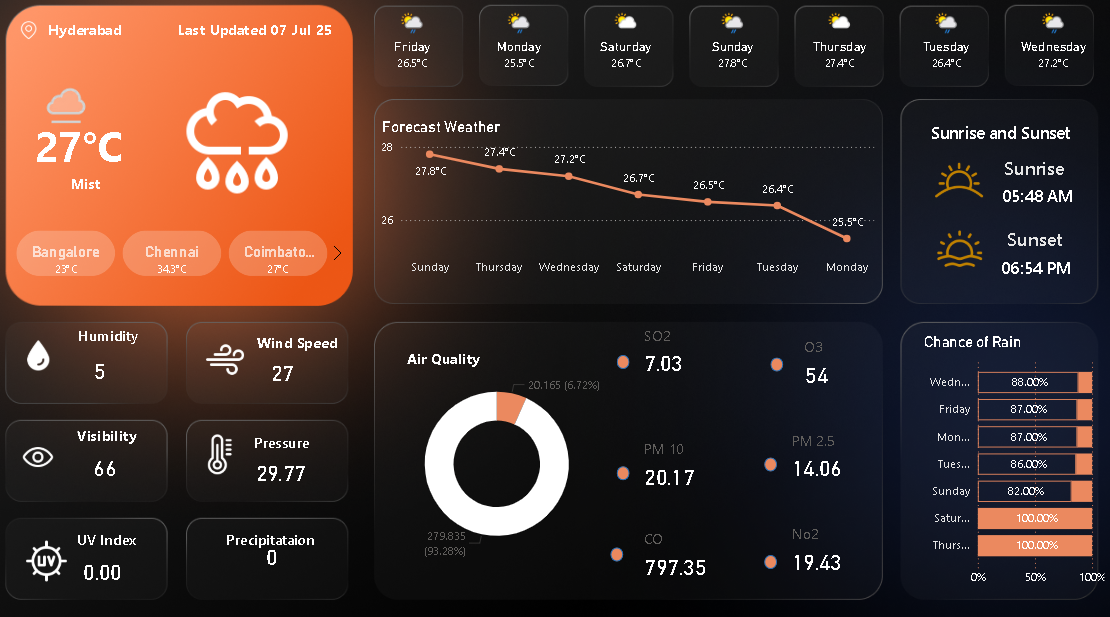

What the dashboard file says about the page in this screenshot:
{"tool":"powerbi","page":{"name":"Page 1","canvas":[1280,720],"ordinal":0},"visuals":[{"type":"advancedSlicerVisual","fields":{"Values":["Locations.location.name"]},"box":[12.9,271.4,401.4,61.4],"z":0},{"type":"shape","box":[21.4,149,172.9,63.1],"z":1000},{"type":"shape","box":[39.2,205.6,152.3,32.9],"z":2000},{"type":"shape","box":[37,32.9,156.4,34.3],"z":3000},{"type":"shape","box":[214.3,32.4,182.5,32.9],"z":4000},{"type":"image","box":[37,35.7,29.6,30.9],"z":5000},{"type":"cardVisual","fields":{"Data":["Min(Current.current.condition.icon)"]},"box":[39.1,82.5,104.2,98.4],"z":6000},{"type":"shape","box":[47.1,488.6,182.9,34.3],"z":7000},{"type":"cardVisual","fields":{"Data":["Sum(Current.current.humidity)"]},"box":[107.1,488.6,95.7,101.4],"z":8000},{"type":"cardVisual","fields":{"Data":["Sum(Current.current.wind_kph)"]},"box":[305.7,381.4,94.3,101.4],"z":9000},{"type":"cardVisual","fields":{"Data":["Sum(Current.current.precip_in)"]},"box":[300.9,588.8,95.5,101.3],"z":10000},{"type":"cardVisual","fields":{"Data":["Sum(Current.current.pressure_in)"]},"box":[288.6,494.3,94.3,101.4],"z":11000},{"type":"cardVisual","fields":{"Data":["Sum(Current.current.uv)"]},"box":[95.7,605.7,95.7,101.4],"z":12000},{"type":"cardVisual","fields":{"Data":["Sum(Current.current.vis_km)"]},"box":[107.1,378.6,95.7,101.4],"z":13000},{"type":"advancedSlicerVisual","fields":{"Values":["Forecast_Day.Day_Name"]},"box":[420.7,20.7,843.8,92.4],"z":14000},{"type":"lineChart","title":"Forecast Weather","fields":{"Category":["Forecast_Day.Day_Name"],"Y":["Sum(Forecast_Day.forecast.forecastday.day.avgtemp_c)"]},"box":[443.6,148.8,562.9,186.7],"z":15000},{"type":"shape","box":[1116,185.8,129.1,38.6],"z":16000},{"type":"shape","box":[1116,212.3,136.3,47.1],"z":17000},{"type":"shape","box":[1095.4,253.4,172.5,62.7],"z":18000},{"type":"shape","box":[1096.7,284.7,172.5,62.7],"z":19000},{"type":"hundredPercentStackedBarChart","title":"Chance of Rain","fields":{"Y":["Sum(Forecast_Day.forecast.forecastday.day.daily_chance_of_rain)","Current.Left_Value_rain"],"Category":["Forecast_Day.Day_Name"]},"box":[1051.5,390.3,213.4,293.4],"z":20000},{"type":"shape","box":[48.3,605.6,182.2,33.8],"z":21000},{"type":"shape","box":[48.6,375.7,182.9,32.9],"z":22000},{"type":"shape","box":[231.6,605.6,182.2,33.8],"z":23000},{"type":"shape","box":[244.3,495.7,182.9,34.3],"z":24000},{"type":"shape","box":[261.4,382.9,182.9,32.9],"z":25000},{"type":"shape","box":[1052,148.4,182.2,32.6],"z":26000},{"type":"cardVisual","fields":{"Data":["Sum(Current.current.air_quality.co)"]},"box":[725.7,588.6,128.6,100],"z":27000},{"type":"shape","box":[426.8,402.9,181.1,32.3],"z":28000},{"type":"cardVisual","fields":{"Data":["Sum(Current.current.air_quality.so2)"]},"box":[725.7,360,128.6,100],"z":29000},{"type":"cardVisual","fields":{"Data":["Sum(Current.current.air_quality.no2)"]},"box":[891.4,582.6,127.7,101.1],"z":30000},{"type":"cardVisual","fields":{"Data":["Sum(Current.current.air_quality.pm2_5)"]},"box":[891.4,477.3,127.7,101.1],"z":31000},{"type":"cardVisual","fields":{"Data":["Sum(Current.current.air_quality.o3)"]},"box":[905.5,376.2,98.3,92.7],"z":32000},{"type":"cardVisual","fields":{"Data":["Sum(Current.current.air_quality.pm10)"]},"box":[725.7,487.1,128.6,101.4],"z":33000},{"type":"shape","box":[711.4,415.7,14.3,15.7],"z":34000},{"type":"shape","box":[877.1,530,14.3,15.7],"z":35000},{"type":"shape","box":[884.3,418.6,14.3,15.7],"z":36000},{"type":"donutChart","fields":{"Y":["Sum(Current.current.air_quality.pm10)","Current.left_value_PM10"]},"box":[444.3,400,267.1,275.7],"z":37000},{"type":"image","box":[1051.4,178.6,90,81.4],"z":38000},{"type":"image","box":[1067.1,260,60,72.9],"z":39000},{"type":"image","box":[28.6,505.7,67.1,50],"z":40000},{"type":"image","box":[238.6,392.9,67.1,55.7],"z":41000},{"type":"image","box":[37.1,617.1,70,58.6],"z":42000},{"type":"image","box":[238.6,487.1,54.3,80],"z":43000},{"type":"image","box":[40,385.7,45.7,60],"z":44000},{"type":"shape","box":[711.4,540,14.3,15.7],"z":45000},{"type":"shape","box":[877.1,640,14.3,15.7],"z":46000},{"type":"shape","box":[704.3,631.4,14.3,15.7],"z":47000},{"type":"image","box":[194.3,102.9,182.9,150],"z":47001}]}

Visuals, with their boxes in screenshot pixels (x1, y1, x2, y2), scaled from the page's 1280x720 canvas onto the 1110x617 screenshot:
advancedSlicerVisual - Locations.location.name: [x1=11, y1=233, x2=359, y2=285]
shape: [x1=19, y1=128, x2=168, y2=182]
shape: [x1=34, y1=176, x2=166, y2=204]
shape: [x1=32, y1=28, x2=168, y2=58]
shape: [x1=186, y1=28, x2=344, y2=56]
image: [x1=32, y1=31, x2=58, y2=57]
cardVisual - Min(Current.current.condition.icon): [x1=34, y1=71, x2=124, y2=155]
shape: [x1=41, y1=419, x2=199, y2=448]
cardVisual - Sum(Current.current.humidity): [x1=93, y1=419, x2=176, y2=506]
cardVisual - Sum(Current.current.wind_kph): [x1=265, y1=327, x2=347, y2=414]
cardVisual - Sum(Current.current.precip_in): [x1=261, y1=505, x2=344, y2=591]
cardVisual - Sum(Current.current.pressure_in): [x1=250, y1=424, x2=332, y2=510]
cardVisual - Sum(Current.current.uv): [x1=83, y1=519, x2=166, y2=606]
cardVisual - Sum(Current.current.vis_km): [x1=93, y1=324, x2=176, y2=411]
advancedSlicerVisual - Forecast_Day.Day_Name: [x1=365, y1=18, x2=1097, y2=97]
"Forecast Weather" lineChart: [x1=385, y1=128, x2=873, y2=288]
shape: [x1=968, y1=159, x2=1080, y2=192]
shape: [x1=968, y1=182, x2=1086, y2=222]
shape: [x1=950, y1=217, x2=1100, y2=271]
shape: [x1=951, y1=244, x2=1101, y2=298]
"Chance of Rain" hundredPercentStackedBarChart: [x1=912, y1=334, x2=1097, y2=586]
shape: [x1=42, y1=519, x2=200, y2=548]
shape: [x1=42, y1=322, x2=201, y2=350]
shape: [x1=201, y1=519, x2=359, y2=548]
shape: [x1=212, y1=425, x2=370, y2=454]
shape: [x1=227, y1=328, x2=385, y2=356]
shape: [x1=912, y1=127, x2=1070, y2=155]
cardVisual - Sum(Current.current.air_quality.co): [x1=629, y1=504, x2=741, y2=590]
shape: [x1=370, y1=345, x2=527, y2=373]
cardVisual - Sum(Current.current.air_quality.so2): [x1=629, y1=308, x2=741, y2=394]
cardVisual - Sum(Current.current.air_quality.no2): [x1=773, y1=499, x2=884, y2=586]
cardVisual - Sum(Current.current.air_quality.pm2_5): [x1=773, y1=409, x2=884, y2=496]
cardVisual - Sum(Current.current.air_quality.o3): [x1=785, y1=322, x2=870, y2=402]
cardVisual - Sum(Current.current.air_quality.pm10): [x1=629, y1=417, x2=741, y2=504]
shape: [x1=617, y1=356, x2=629, y2=370]
shape: [x1=761, y1=454, x2=773, y2=468]
shape: [x1=767, y1=359, x2=779, y2=372]
donutChart - Sum(Current.current.air_quality.pm10) x Current.left_value_PM10: [x1=385, y1=343, x2=617, y2=579]
image: [x1=912, y1=153, x2=990, y2=223]
image: [x1=925, y1=223, x2=977, y2=285]
image: [x1=25, y1=433, x2=83, y2=476]
image: [x1=207, y1=337, x2=265, y2=384]
image: [x1=32, y1=529, x2=93, y2=579]
image: [x1=207, y1=417, x2=254, y2=486]
image: [x1=35, y1=331, x2=74, y2=382]
shape: [x1=617, y1=463, x2=629, y2=476]
shape: [x1=761, y1=548, x2=773, y2=562]
shape: [x1=611, y1=541, x2=623, y2=555]
image: [x1=168, y1=88, x2=327, y2=217]
